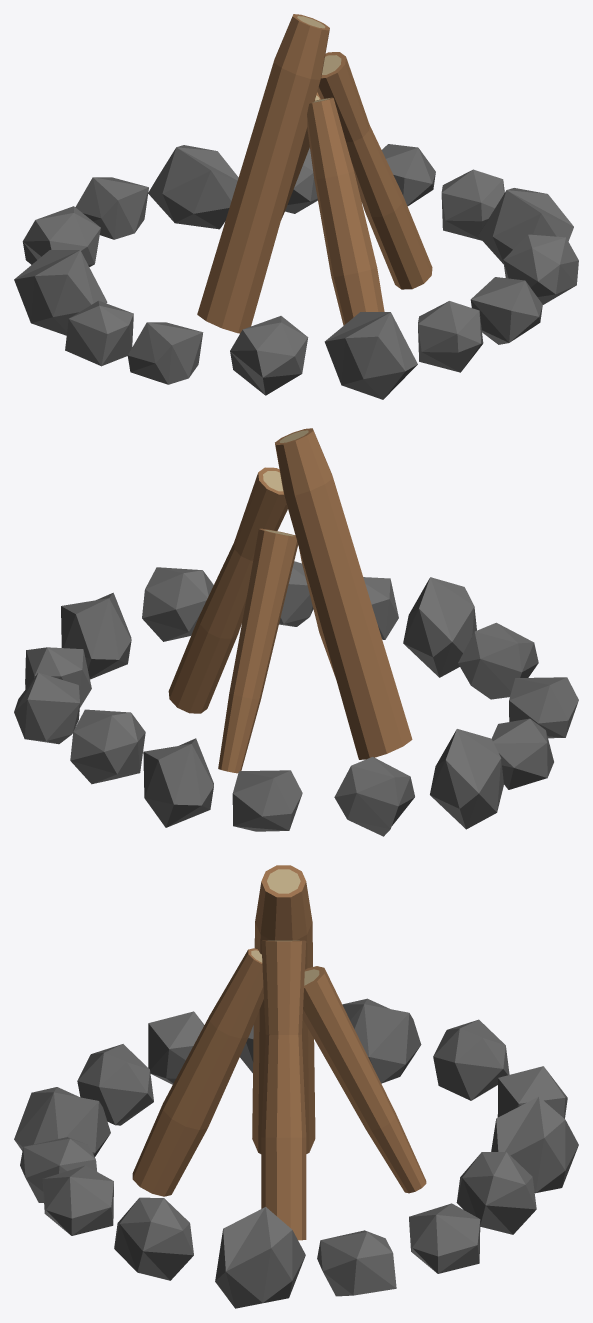
The model's file is Campfire_1.fbx.
3 views of the same model, one above another, from view 1: azimuth 30°, elevation 25°; view 2: azimuth 150°, elevation 25°; view 3: azimuth 270°, elevation 25° (orthographic). The views are drawn at different scales.
Parts seen in each view (by area): view 1: CampFire_1; view 2: CampFire_1; view 3: CampFire_1.
Part boxes in pixels (box(x1,y1,x2,y2)): CampFire_1: box(14, 14, 578, 399); CampFire_1: box(14, 428, 578, 836); CampFire_1: box(14, 865, 578, 1308).
Size of the model in its own units: 128 by 75.06 by 119.
